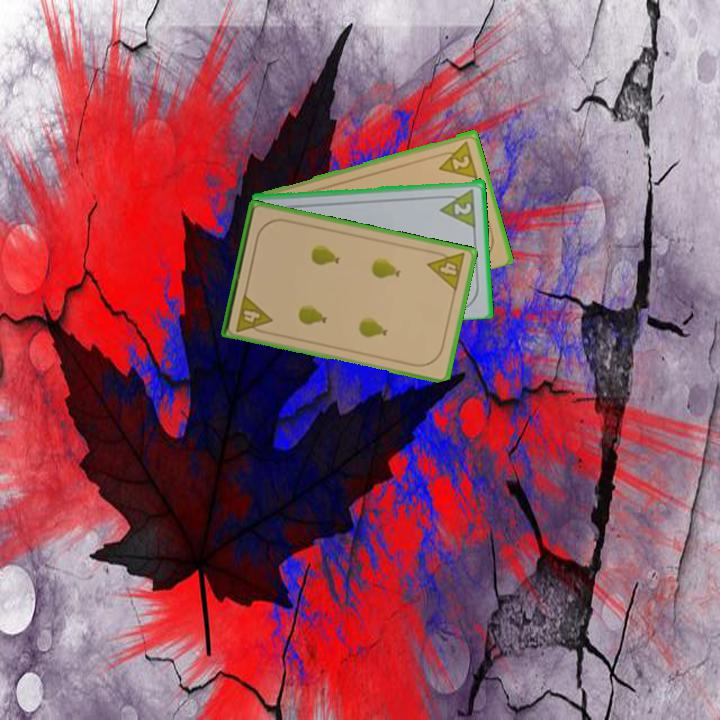2p: (433, 136, 480, 180), (451, 199, 475, 217)
4p: (424, 246, 468, 294), (232, 290, 275, 337)
